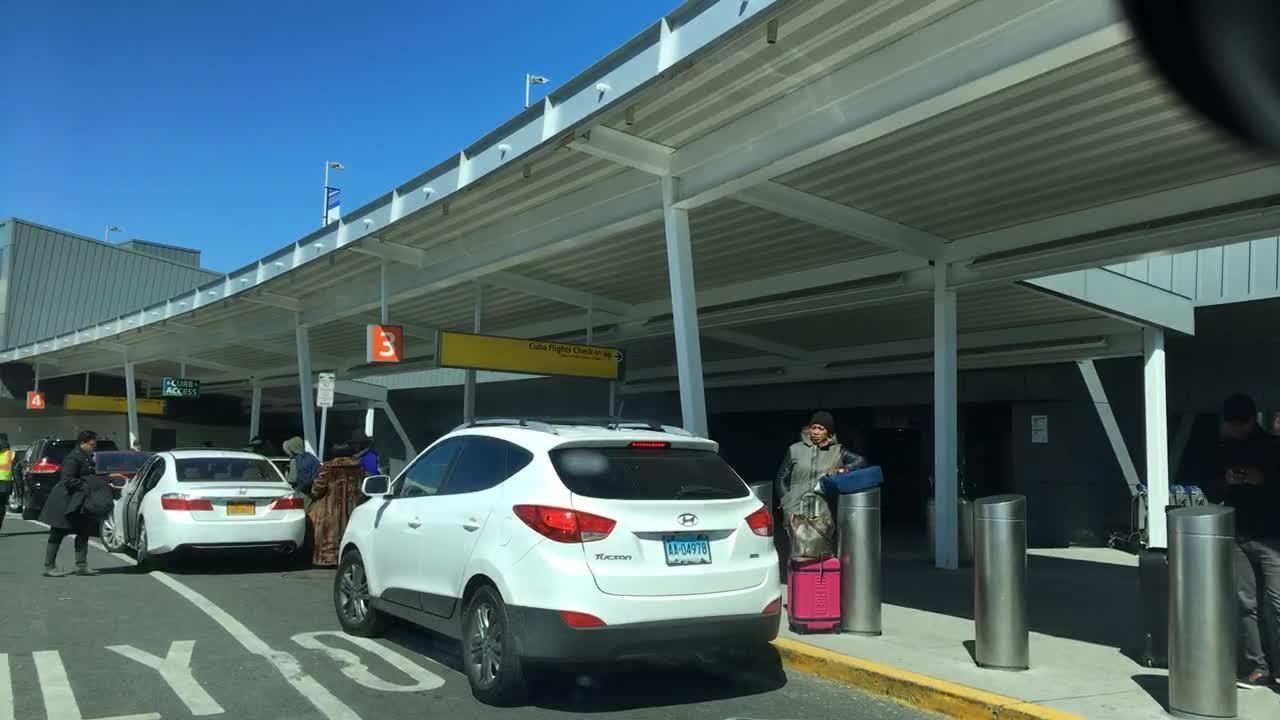Hyundai: (671, 504, 706, 532)
